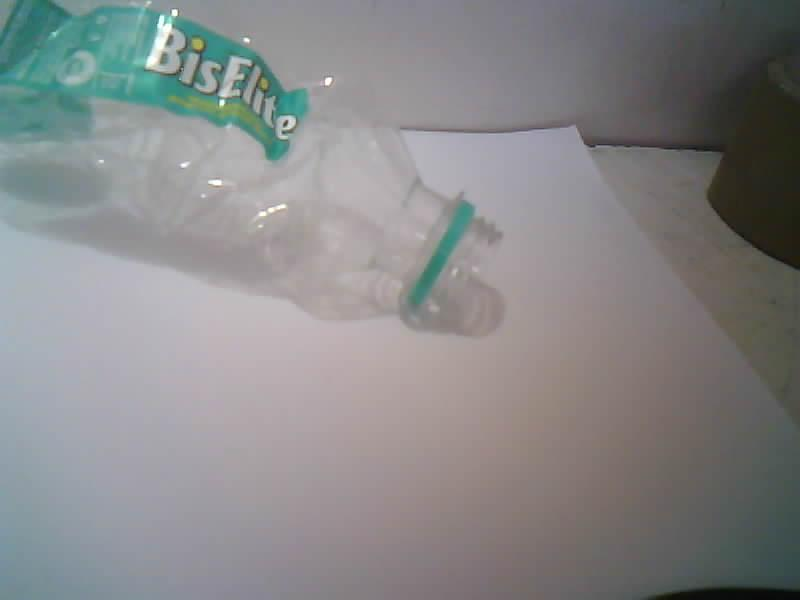non-biodegradable: (0, 0, 500, 333)
